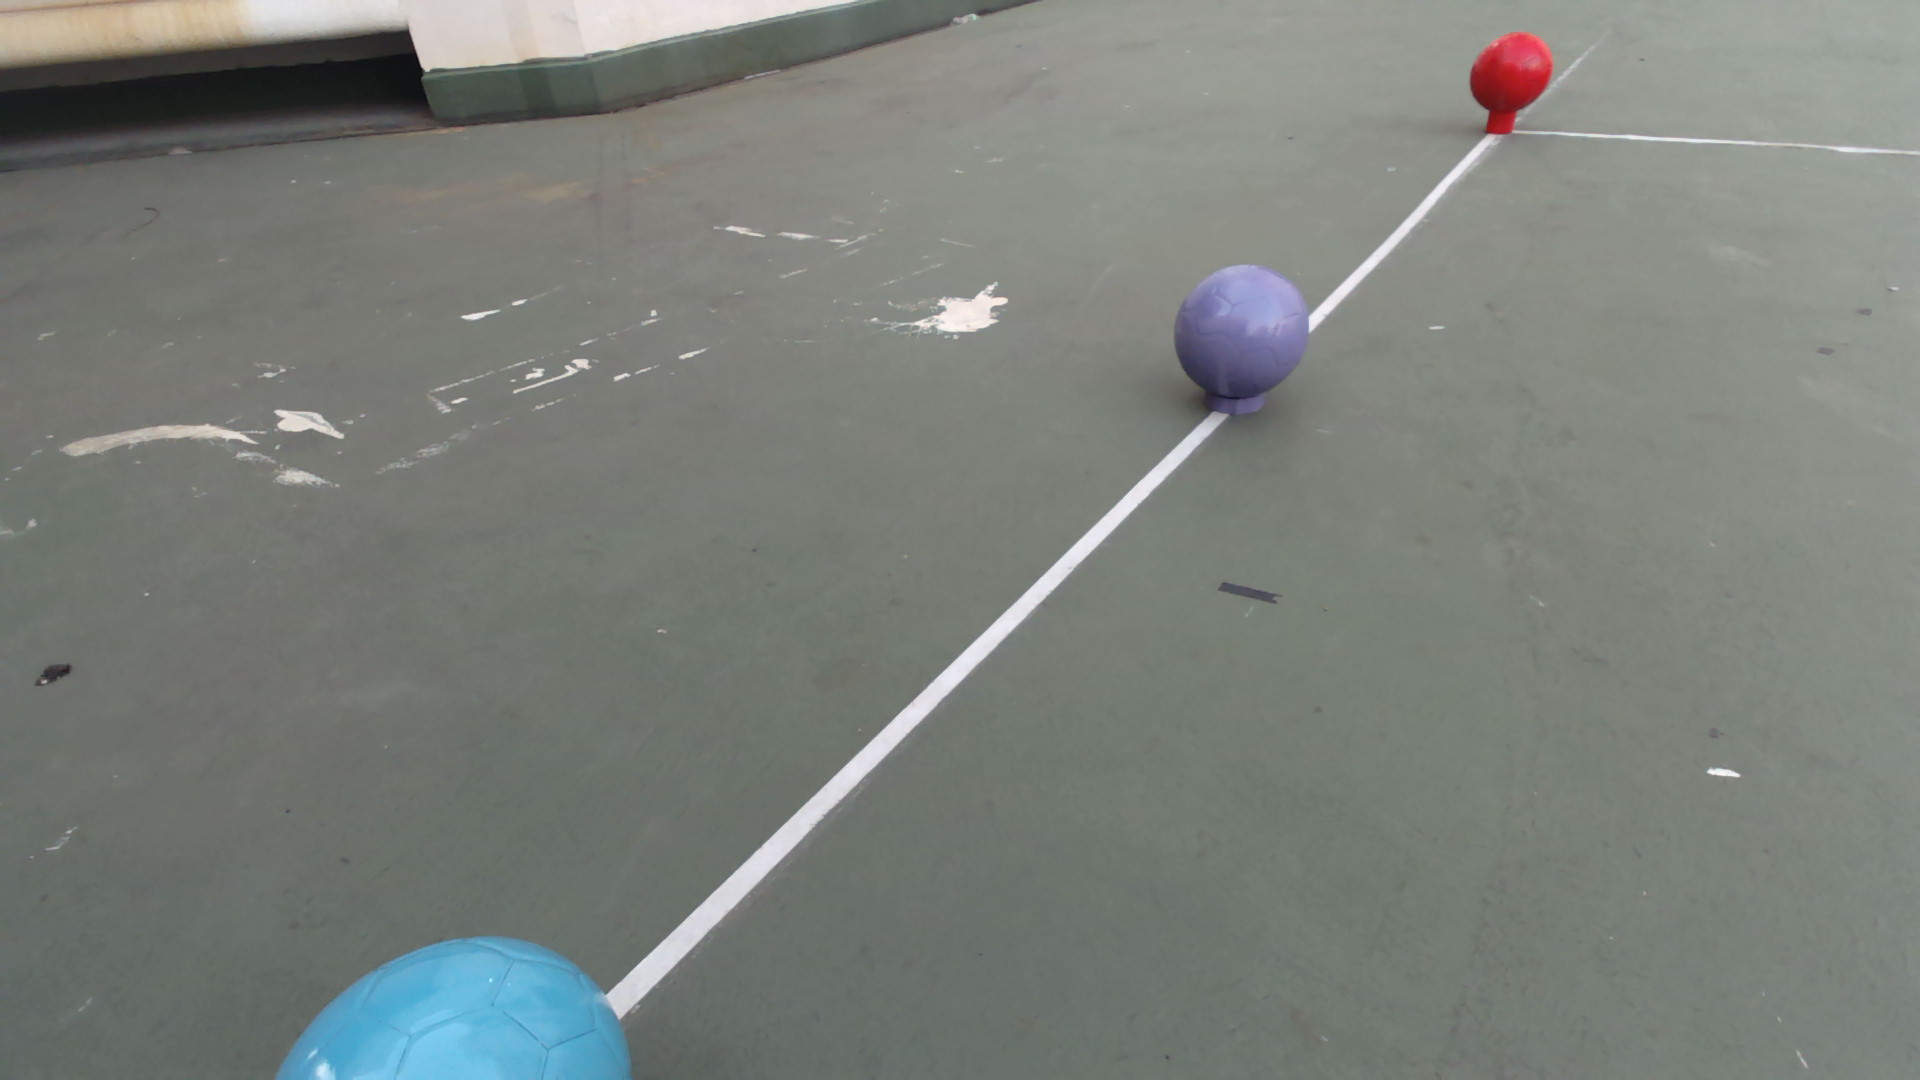Blue ball: (272, 932, 640, 1080)
Purple ball: (1171, 260, 1312, 401)
Red ball: (1466, 30, 1555, 115)
